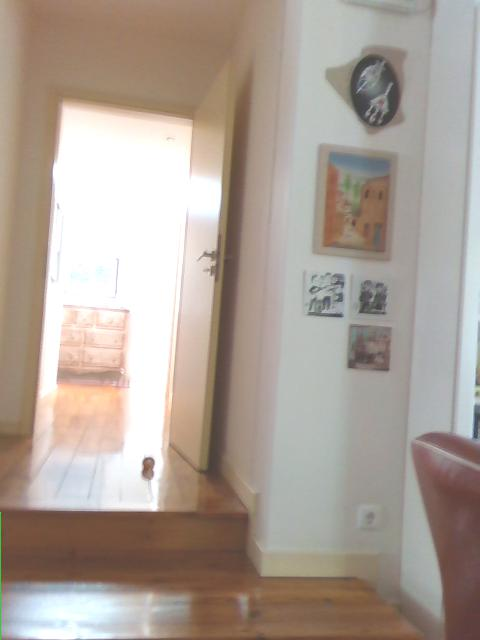open_door: (26, 79, 197, 444)
